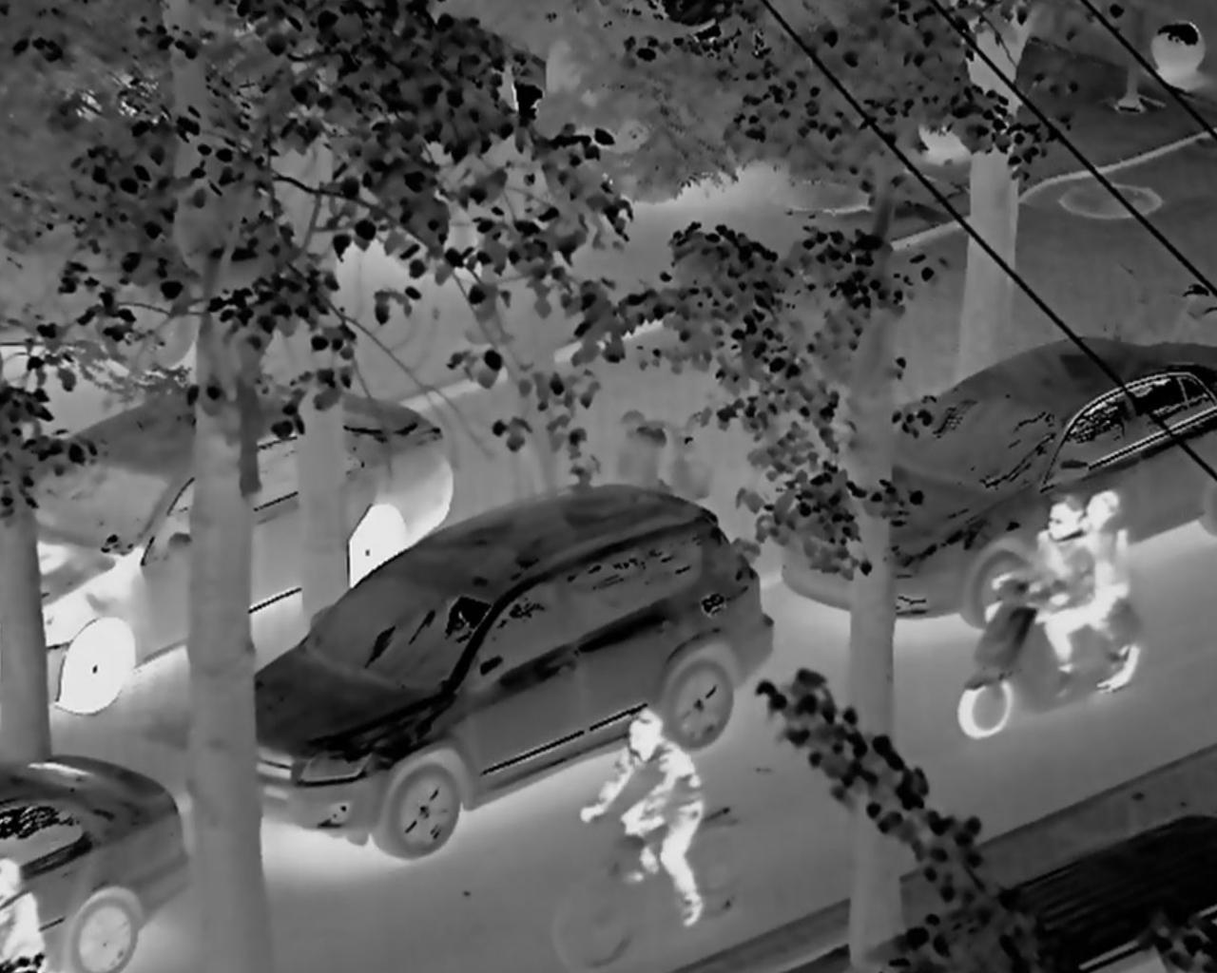person: (580, 709, 705, 925), (1064, 481, 1153, 685), (1001, 495, 1089, 697)
